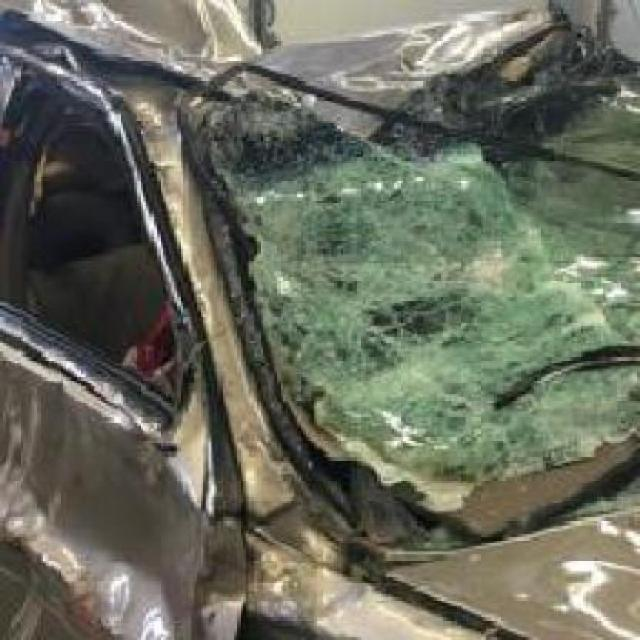damaged-door: (0, 50, 232, 638)
damaged-windscreen: (200, 48, 637, 534)
